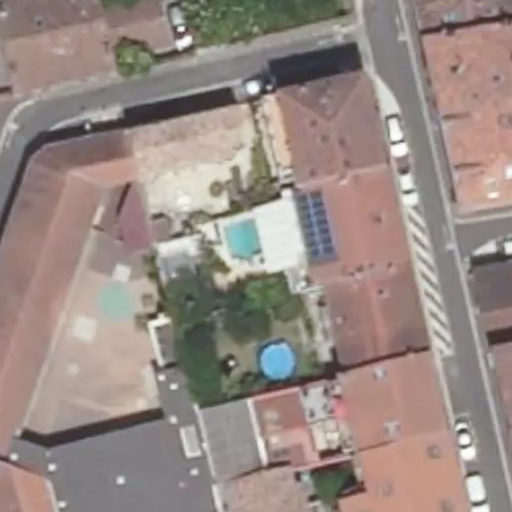pool: (221, 231, 294, 252)
